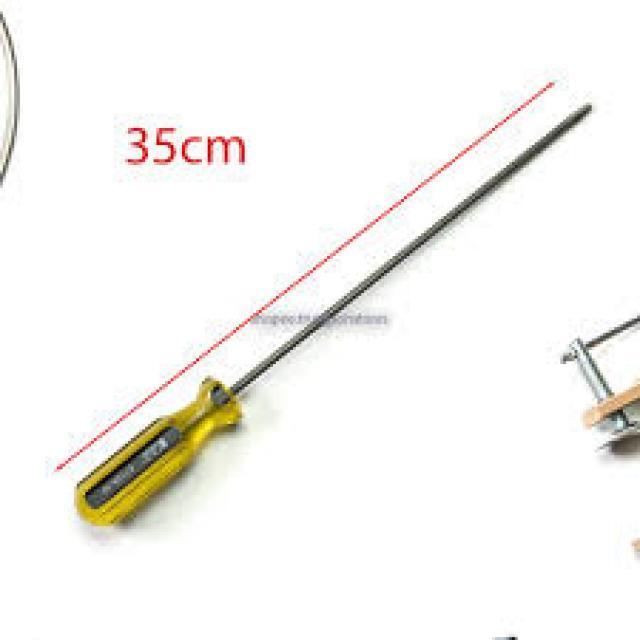screwdriver: (69, 98, 602, 533)
